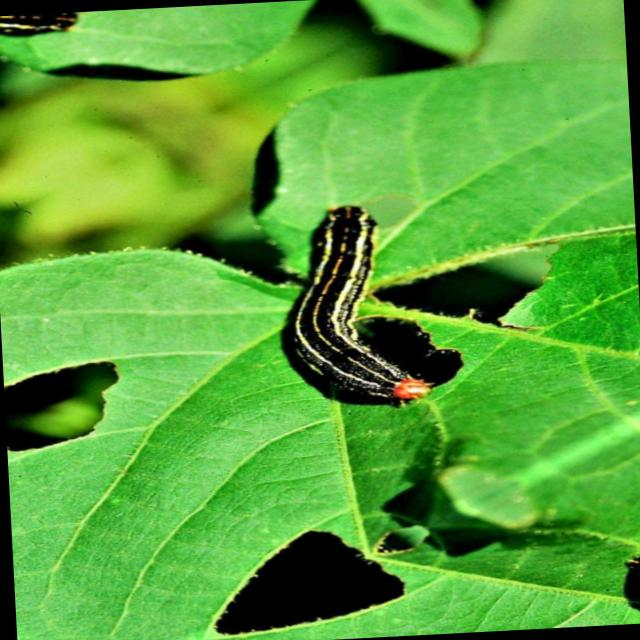Armyworm: (197, 196, 458, 419)
Armyworm_damage: (196, 514, 404, 640), (2, 326, 168, 462), (364, 232, 582, 329)
